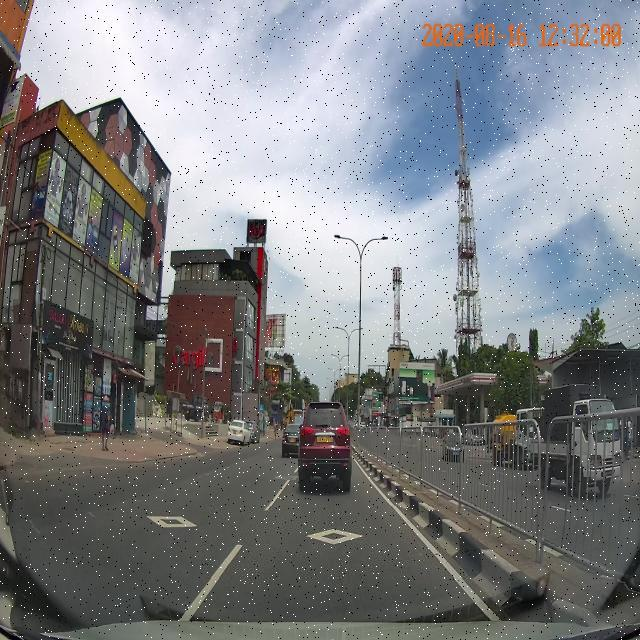diamond: (204, 507, 466, 578)
